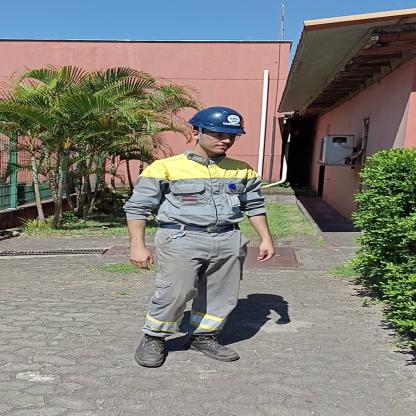Capacete: (189, 104, 247, 131)
